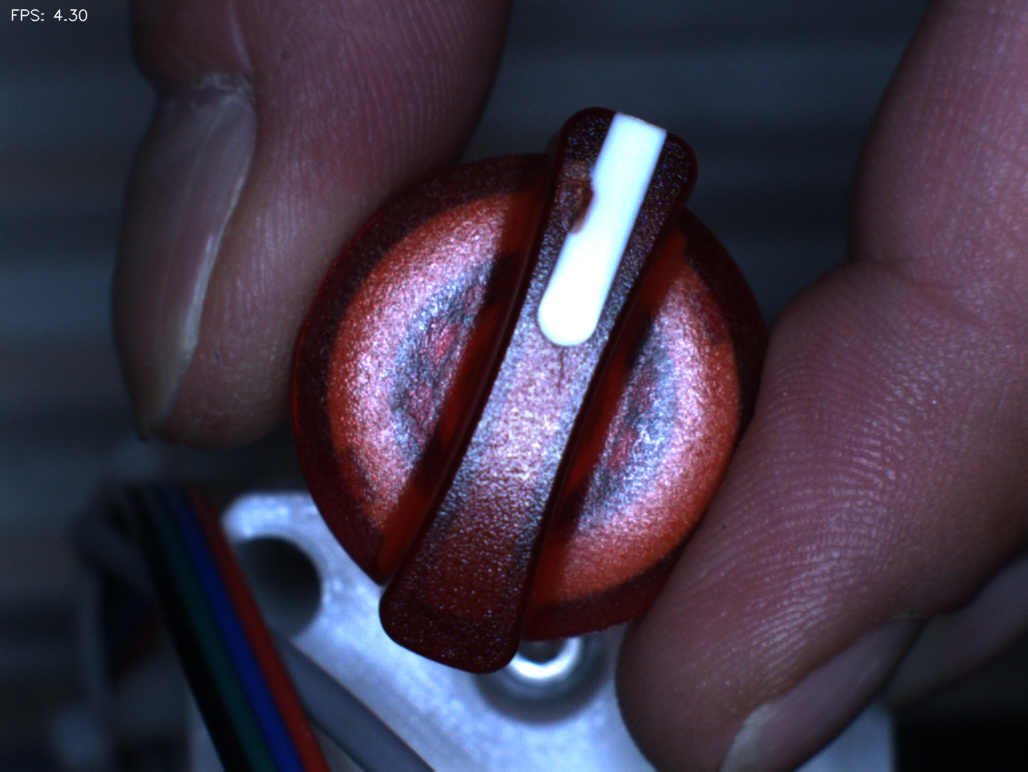Choc: (529, 144, 620, 235)
